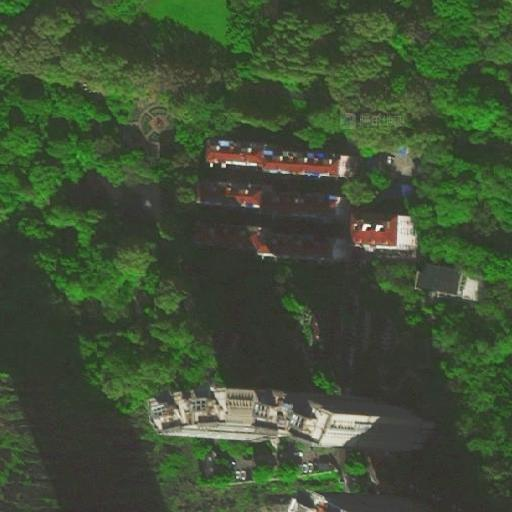building: (232, 400, 435, 460), (196, 184, 342, 222), (192, 223, 345, 259), (207, 141, 355, 177), (352, 215, 414, 250), (415, 260, 460, 294), (374, 176, 417, 206), (293, 491, 348, 511), (456, 273, 483, 302)
